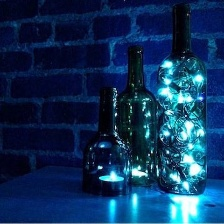bottle: (152, 1, 213, 199), (114, 41, 158, 189), (79, 84, 133, 199)
